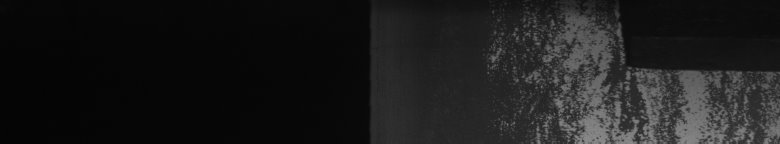kb: (488, 0, 693, 144)
